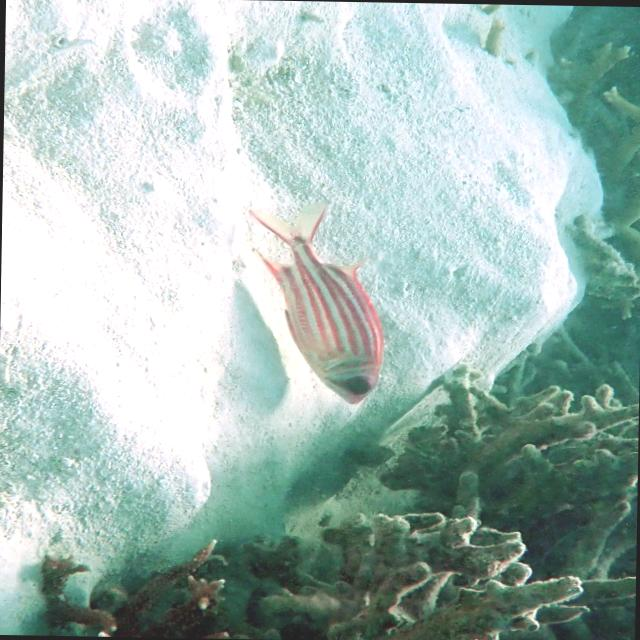Asker Baligi: (229, 195, 403, 412)
